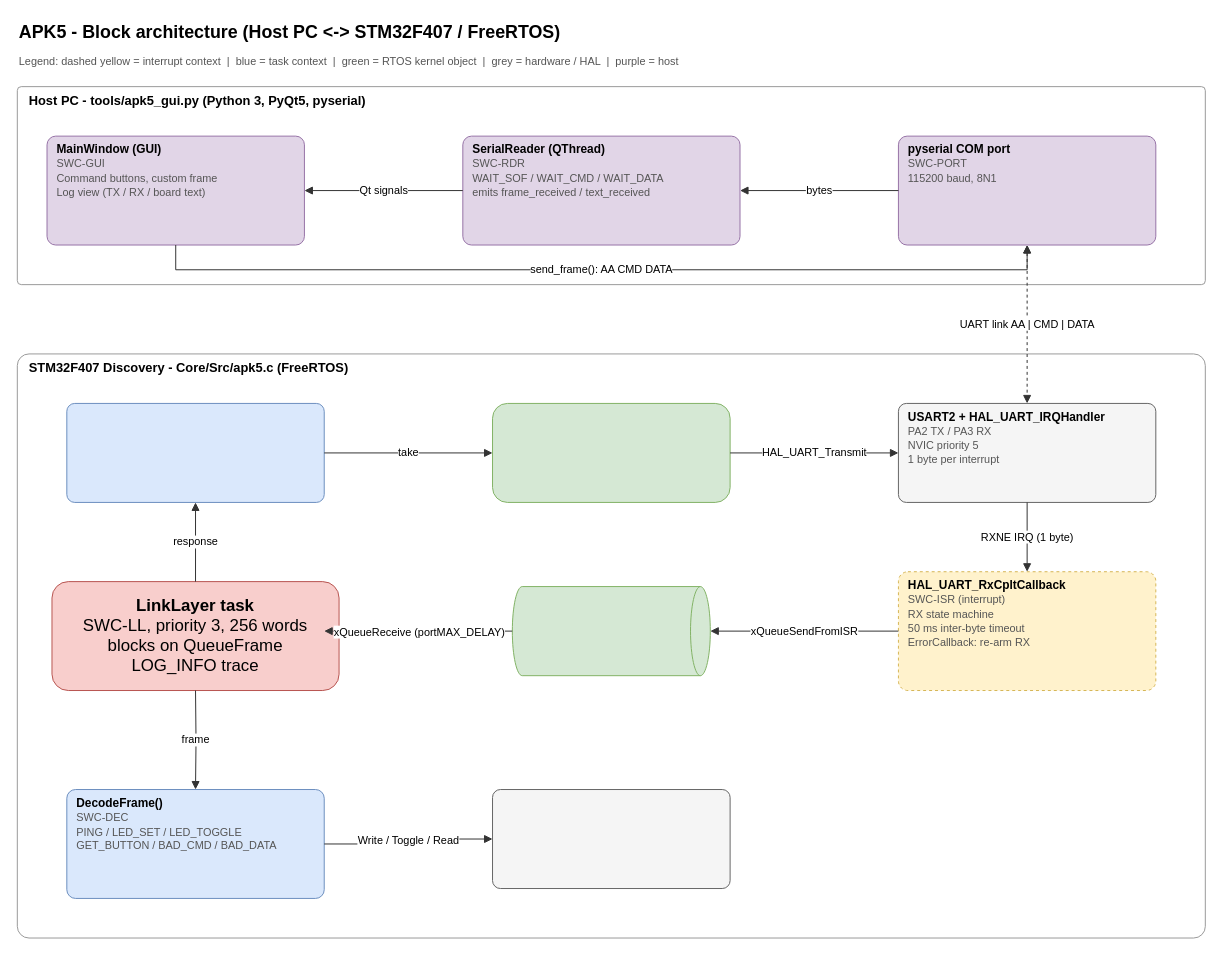
Some shapes in this 1223 by 955 pixel diagram are drawn without their labels. The box of each missing label's shape, as (x1, y1, x2, y2) in pixels:
GPIO (HAL) LEDs PD12..PD15 User button PA0: (492, 789, 730, 889)
QueueFrame SWC-QUEUE 8 x Frame_t {cmd, data}: (511, 586, 710, 676)
SendFrame() SWC-TX AA, CMD| 0x80, DATA: (66, 402, 324, 502)
xUartMutex SWC-CFG (log.c) shared with printf / _write(): (492, 402, 730, 502)
